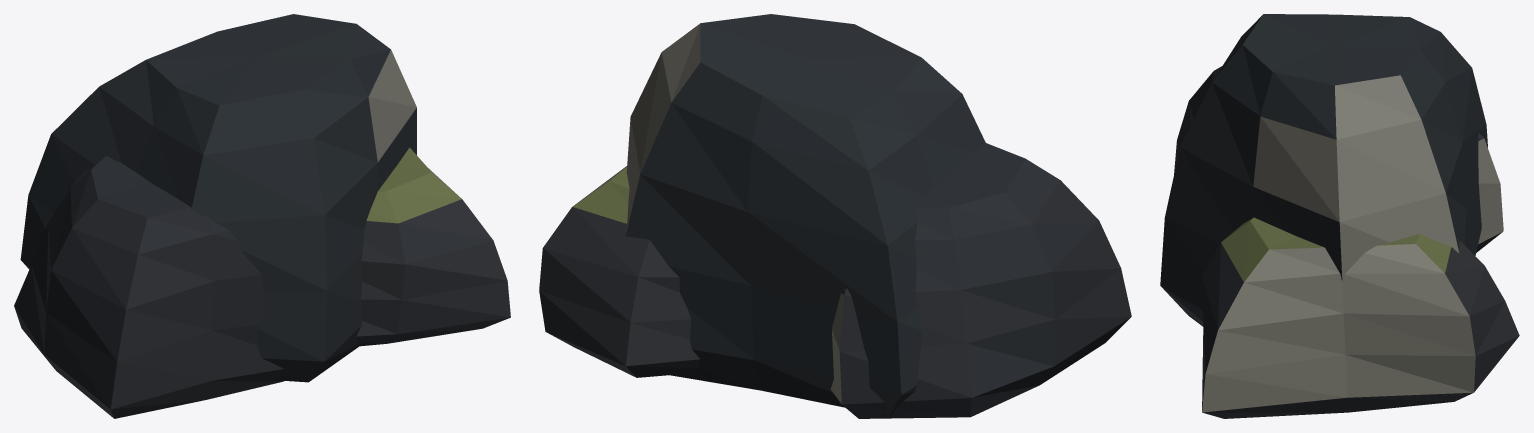
Rendered from rock_coastal_boulder_a.glb.
The picture shows the model from 3 angles, left to right: view 1: azimuth 30°, elevation 25°; view 2: azimuth 150°, elevation 25°; view 3: azimuth 270°, elevation 25°; orthographic projection. The views are drawn at different scales.
Parts seen in each view (by area): view 1: rock_coastal_boulder_a_LOD0_stone; view 2: rock_coastal_boulder_a_LOD0_stone; view 3: rock_coastal_boulder_a_LOD0_stone.
Part boxes in pixels (x1,y1,x2,y2): rock_coastal_boulder_a_LOD0_stone: [14, 14, 510, 418]; rock_coastal_boulder_a_LOD0_stone: [539, 14, 1131, 418]; rock_coastal_boulder_a_LOD0_stone: [1160, 14, 1519, 418].
Bounding box in the file's own units: 2.26 × 1.48 × 1.63.
